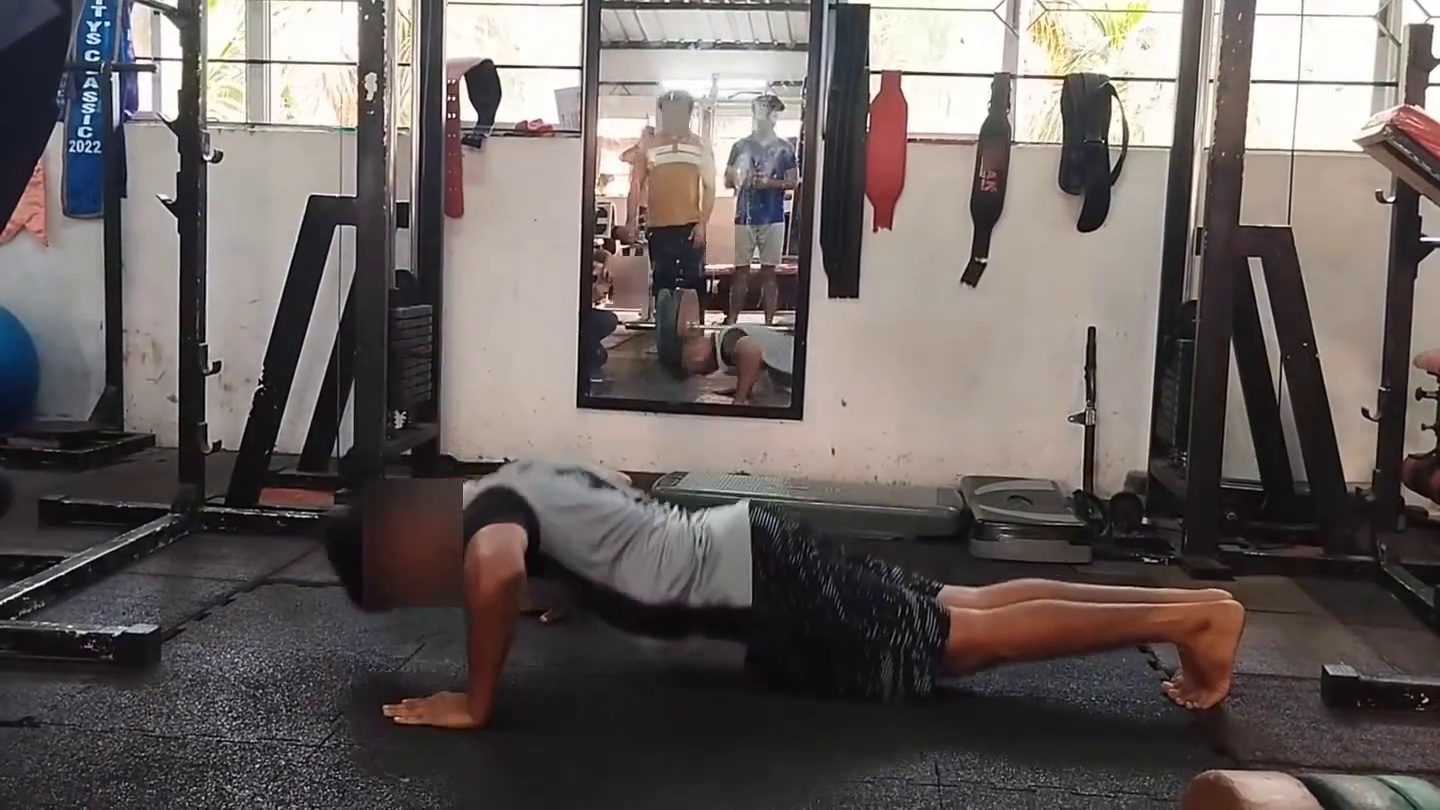push_up: (346, 432, 1270, 789)
